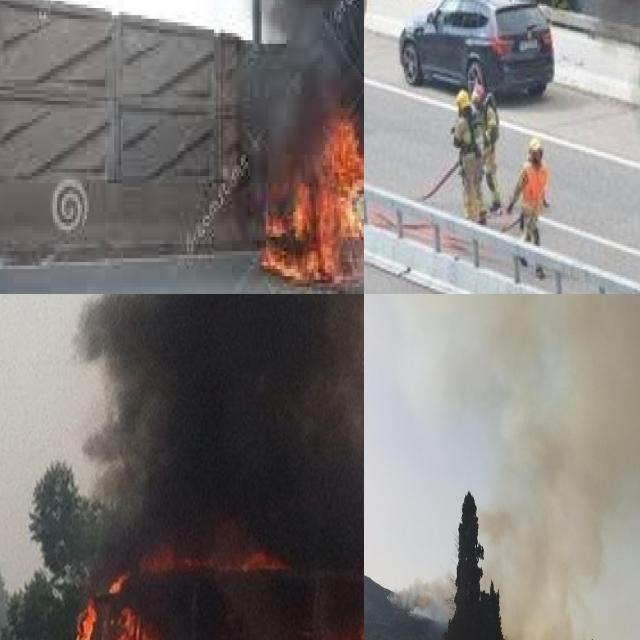fire: (71, 531, 364, 640), (259, 79, 364, 283)
smoke: (72, 294, 364, 625), (389, 294, 640, 640), (209, 0, 364, 158), (573, 0, 640, 294)
